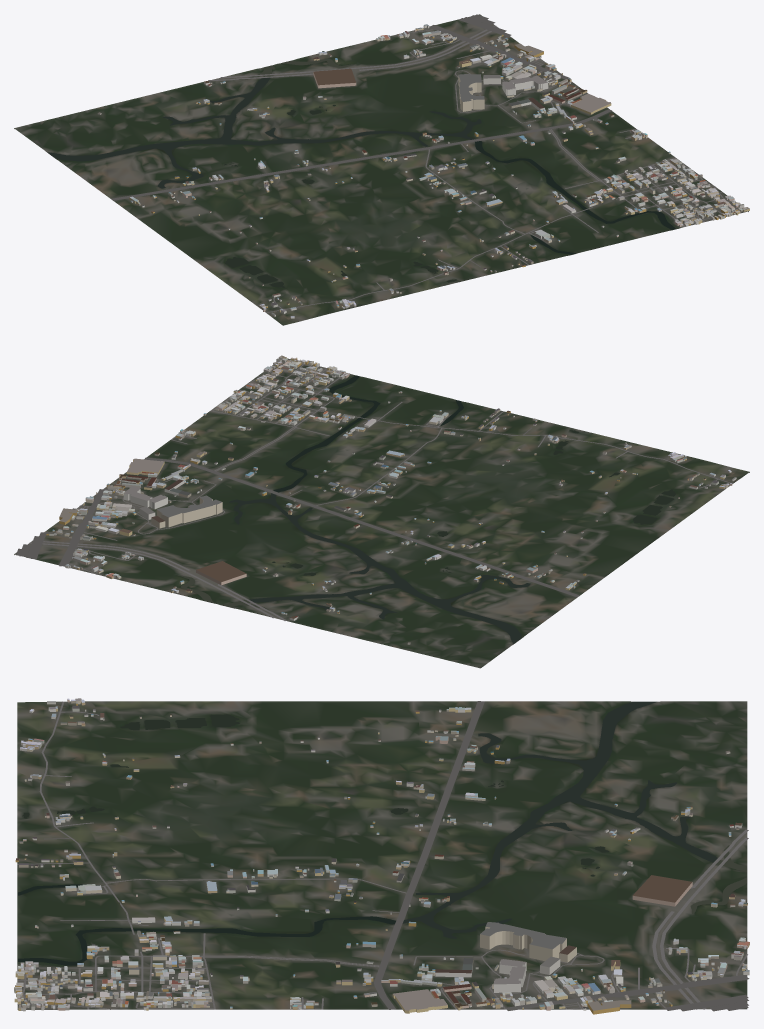
The picture shows the model from 3 angles, top to bottom: view 1: azimuth 30°, elevation 25°; view 2: azimuth 150°, elevation 25°; view 3: azimuth 270°, elevation 25°; orthographic projection. The views are drawn at different scales.
Parts seen in each view (by area): view 1: ground, buildings, water, roads; view 2: ground, buildings, roads, water; view 3: ground, buildings, water, roads.
Boxes of the visible parts, bbox=[...] form: ground: bbox=[14, 14, 748, 325]; buildings: bbox=[97, 24, 749, 318]; water: bbox=[48, 59, 675, 287]; roads: bbox=[111, 14, 741, 312]; ground: bbox=[14, 358, 749, 668]; buildings: bbox=[46, 355, 736, 644]; roads: bbox=[16, 359, 732, 620]; water: bbox=[179, 375, 675, 643]; ground: bbox=[17, 701, 747, 1009]; buildings: bbox=[14, 698, 749, 1014]; water: bbox=[18, 701, 746, 965]; roads: bbox=[17, 701, 749, 1011].
Size of the model in its own units: 1426 by 33.32 by 1412.
